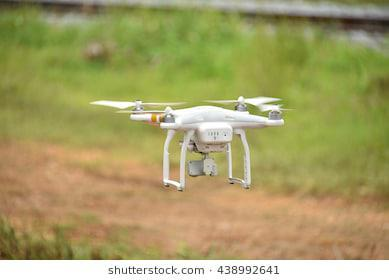drone: (92, 90, 299, 197)
